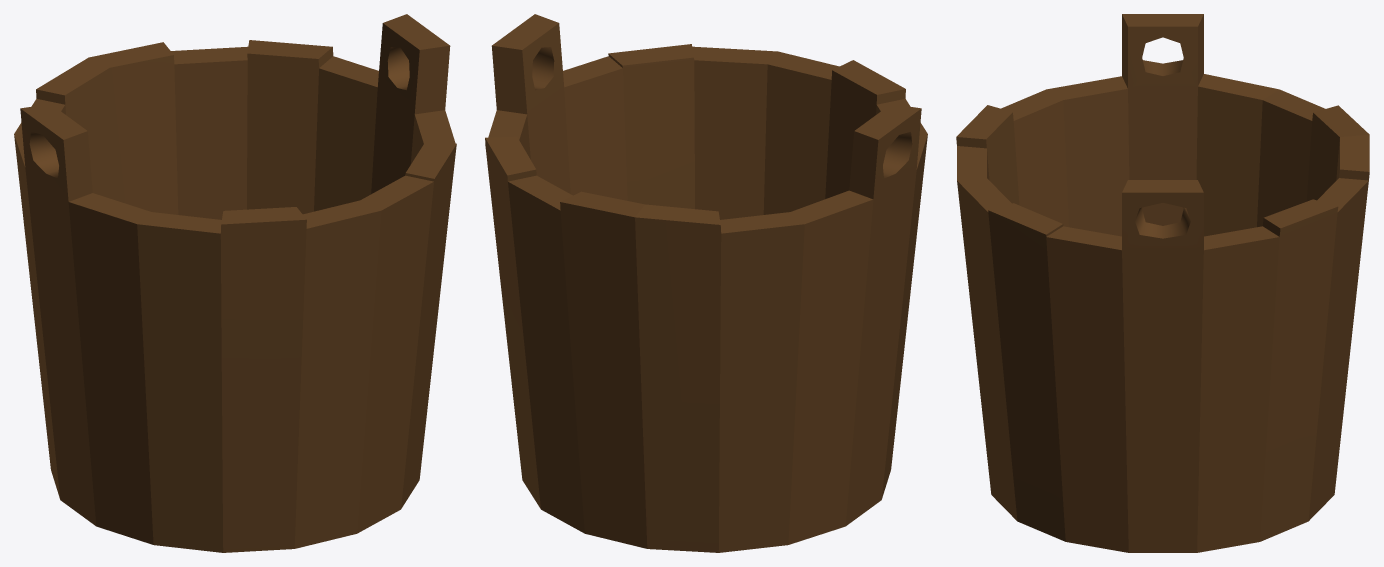
The model's file is NEW Secchio vuoto.fbx.
3 views of the same model, side by side, from view 1: azimuth 30°, elevation 25°; view 2: azimuth 150°, elevation 25°; view 3: azimuth 270°, elevation 25° (orthographic). The views are drawn at different scales.
Parts seen in each view (by area): view 1: Circle; view 2: Circle; view 3: Circle.
Boxes of the visible parts, x1,y1,x2,y2 form: Circle: (14,14,456,552); Circle: (485,14,927,552); Circle: (956,14,1369,552).
Size of the model in its own units: 36.25 by 35.66 by 35.45.
